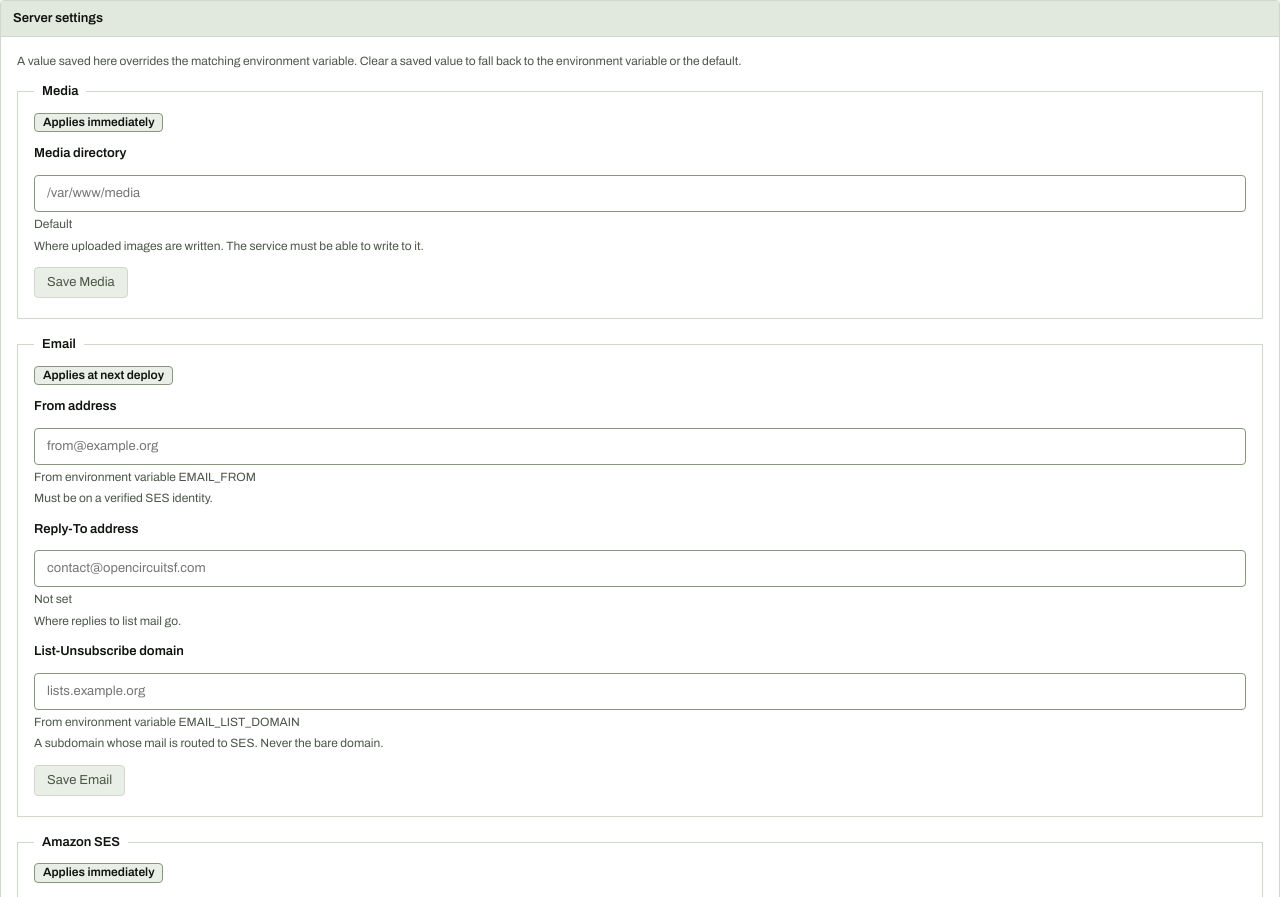
Scenario: ServerSettings › saves exactly the typed media directory
This screenshot has width=1280, height=897.
Expected: the text "Amazon SES" is shown, [42, 835, 120, 849]
Type "/srv/media" into the field labelled "Media directory".
click(640, 194); type("/srv/media")  # box [34, 175, 1246, 212]
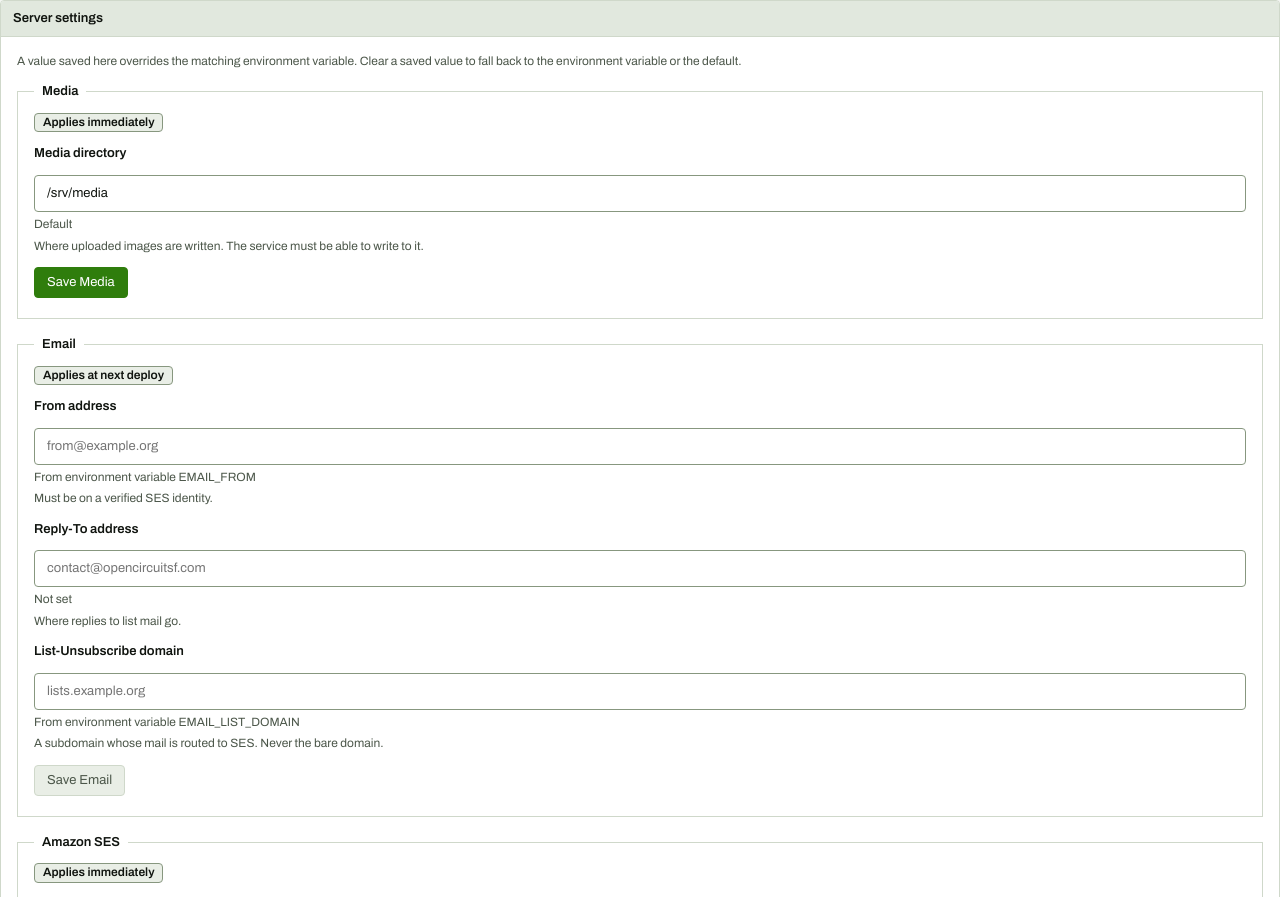
Click the button "Save Media".
click(81, 282)  # box [34, 267, 128, 298]
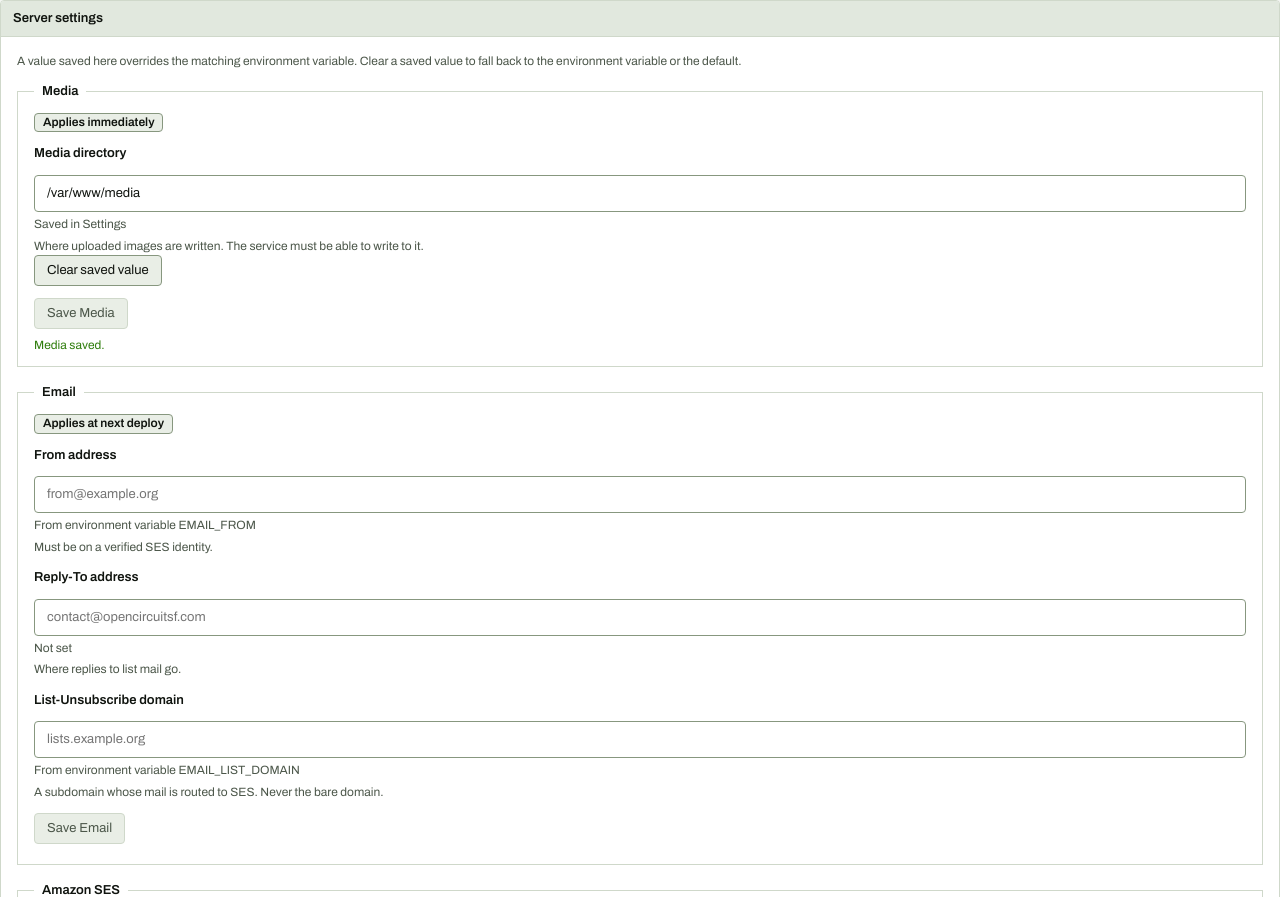
Now the text "Media saved." is shown, box [34, 338, 105, 352]
